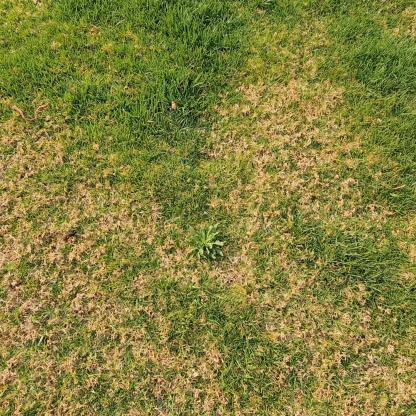Weeds: (183, 222, 225, 262)
